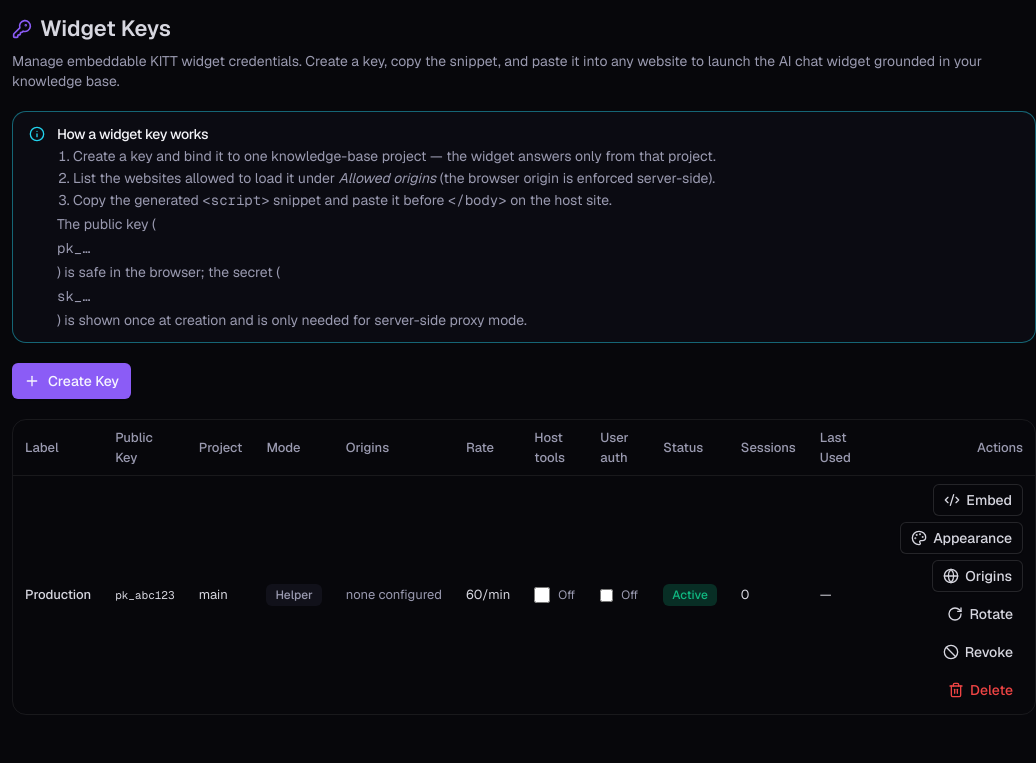
Test: WidgetKeysView › surfaces an error when revoke fails (#32, R14)
Click the button with test id "admin-widget-keys-revoke-1".
click(978, 652)  # box [933,636,1023,668]
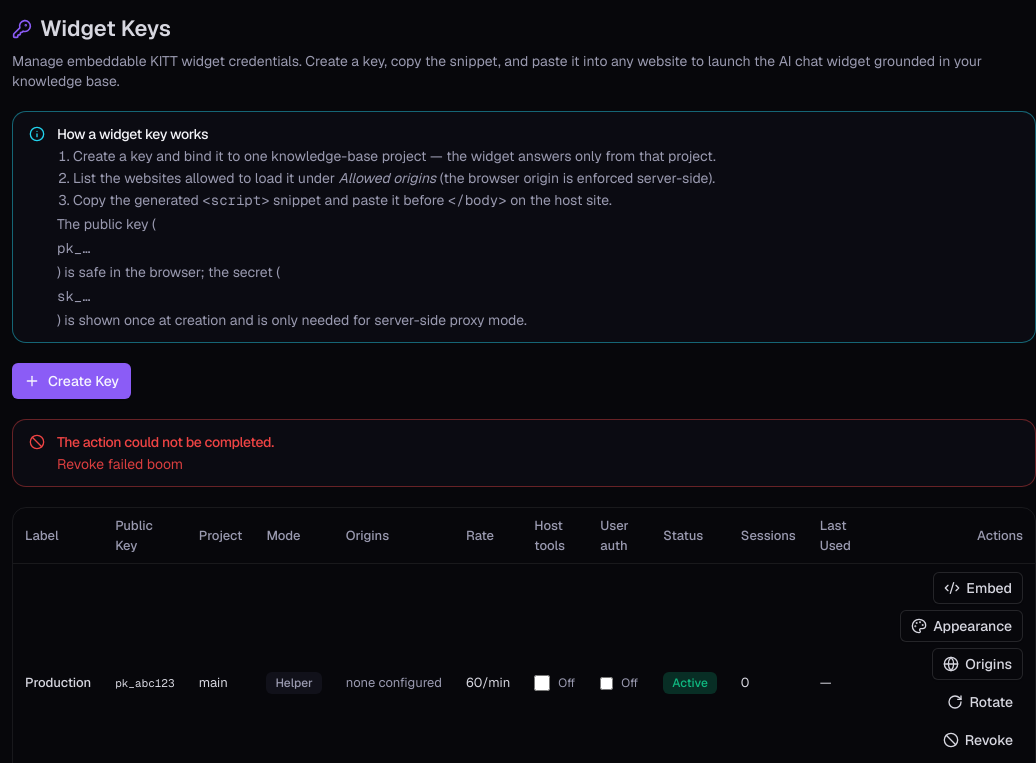
Expected: the message "The action could not be completed. Revoke failed boom" is shown, [12,419,1035,487]
